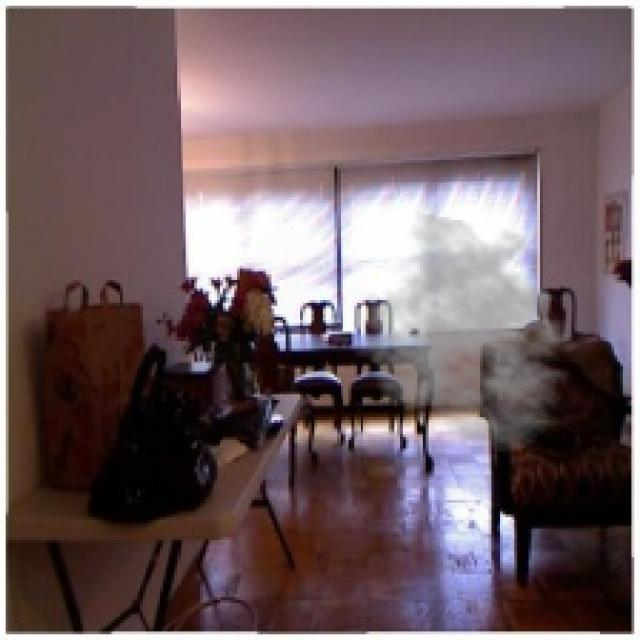Smoke: (352, 212, 592, 454)
